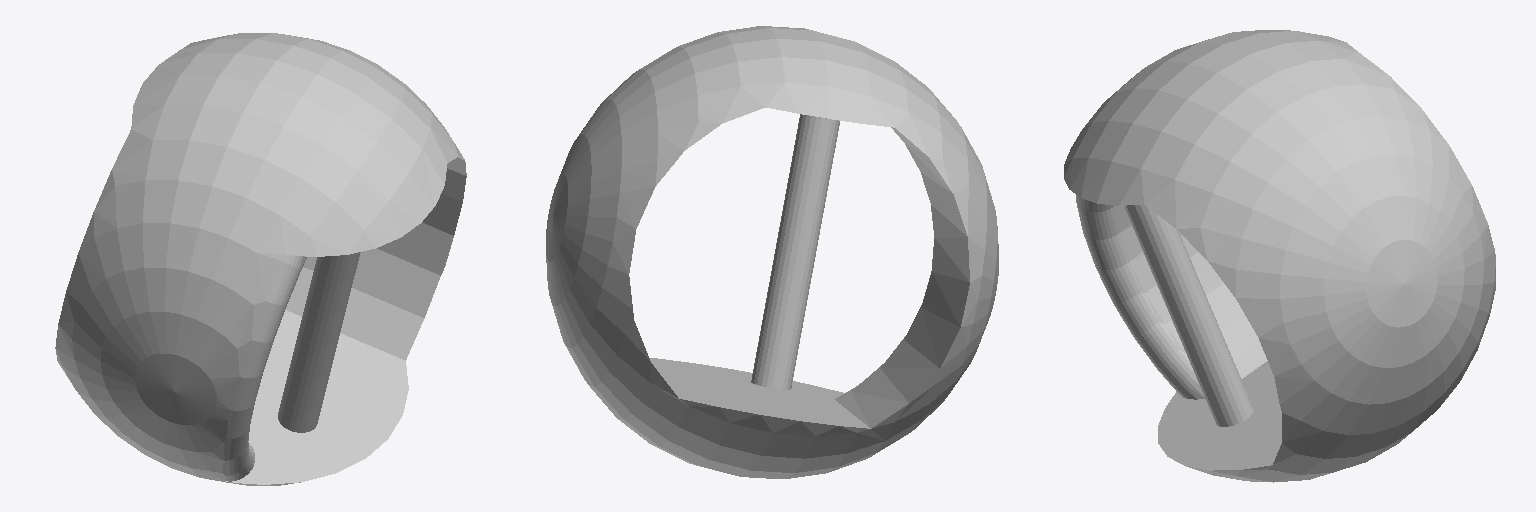
The picture shows the model from 3 angles: view 1: azimuth 30°, elevation 25°; view 2: azimuth 150°, elevation 25°; view 3: azimuth 270°, elevation 25°; orthographic projection.
Visible parts, largest first — view 1: 设计2\实体; view 2: 设计2\实体; view 3: 设计2\实体.
Part boxes in pixels (bbox=[...]): 设计2\实体: bbox=[55, 33, 466, 485]; 设计2\实体: bbox=[546, 26, 998, 478]; 设计2\实体: bbox=[1064, 30, 1495, 482].
Bounding box in the file's own units: 259 × 259 × 247.